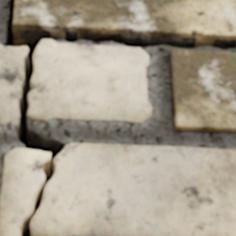brick: (13, 0, 235, 40), (169, 49, 235, 131)
broken_brick: (30, 143, 235, 235), (27, 39, 151, 121), (0, 148, 50, 235), (0, 44, 28, 124)
crack: (2, 0, 235, 235)
